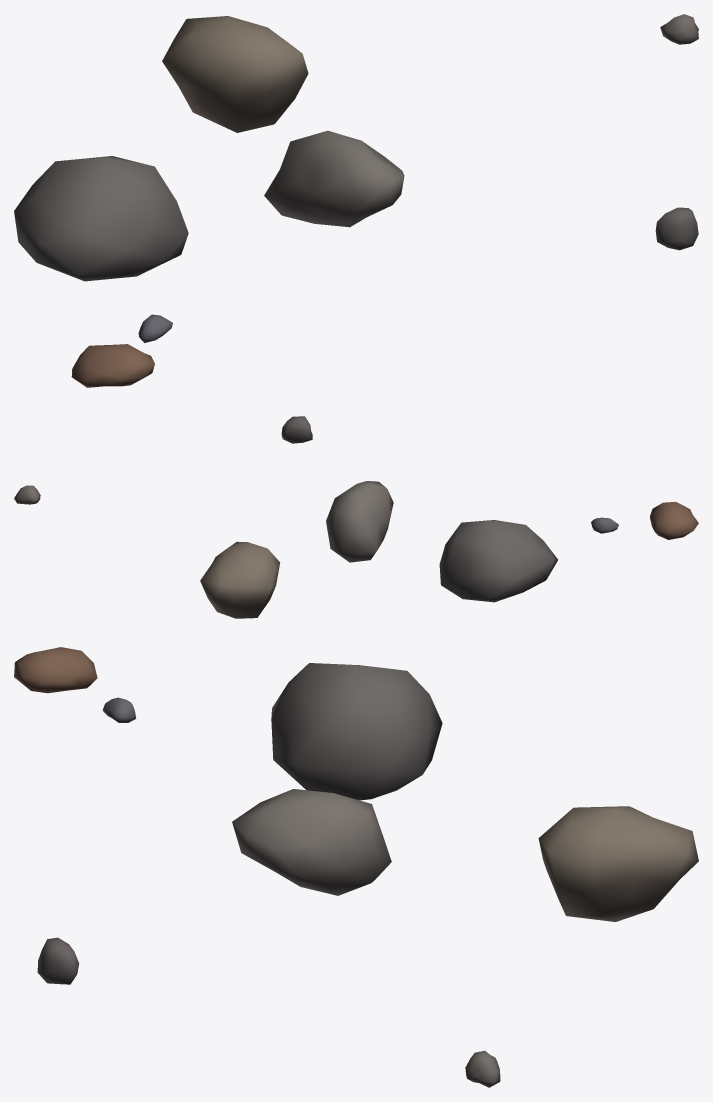
Rendered from yd_stones__215.glb.
The picture shows the model from 3 angles, top to bottom: view 1: azimuth 30°, elevation 25°; view 2: azimuth 150°, elevation 25°; view 3: azimuth 270°, elevation 25°; orthographic projection. The views are drawn at different scales.
Visible parts, largest first — view 1: prop_yd_stones; view 2: prop_yd_stones; view 3: prop_yd_stones.
Boxes of the visible parts, x1,y1,x2,y2 form: prop_yd_stones: [14, 14, 698, 387]; prop_yd_stones: [14, 416, 698, 618]; prop_yd_stones: [14, 647, 698, 1087].
Size of the model in its own units: 1.28 by 0.1777 by 0.8764.
